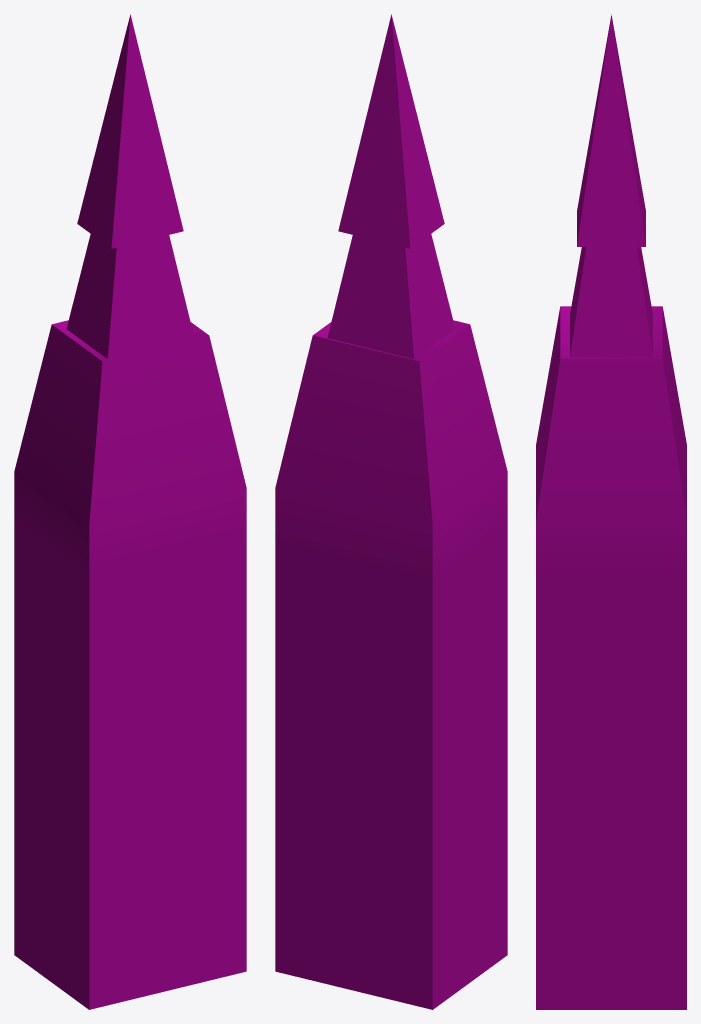
The model's file is ElfBed_PostBig.fbx.
3 views of the same model, side by side, from view 1: azimuth 30°, elevation 25°; view 2: azimuth 150°, elevation 25°; view 3: azimuth 270°, elevation 25° (orthographic).
Visible parts, largest first — view 1: polySurface15; view 2: polySurface15; view 3: polySurface15.
Part boxes in pixels (x1,y1,x2,y2): polySurface15: (14,14,246,1009); polySurface15: (275,14,507,1009); polySurface15: (536,14,686,1009).
Bounding box in the file's own units: 1.5 × 8.65 × 1.23.
